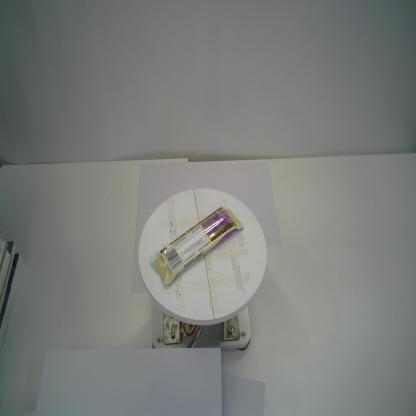Chocolate: (150, 203, 244, 286)
